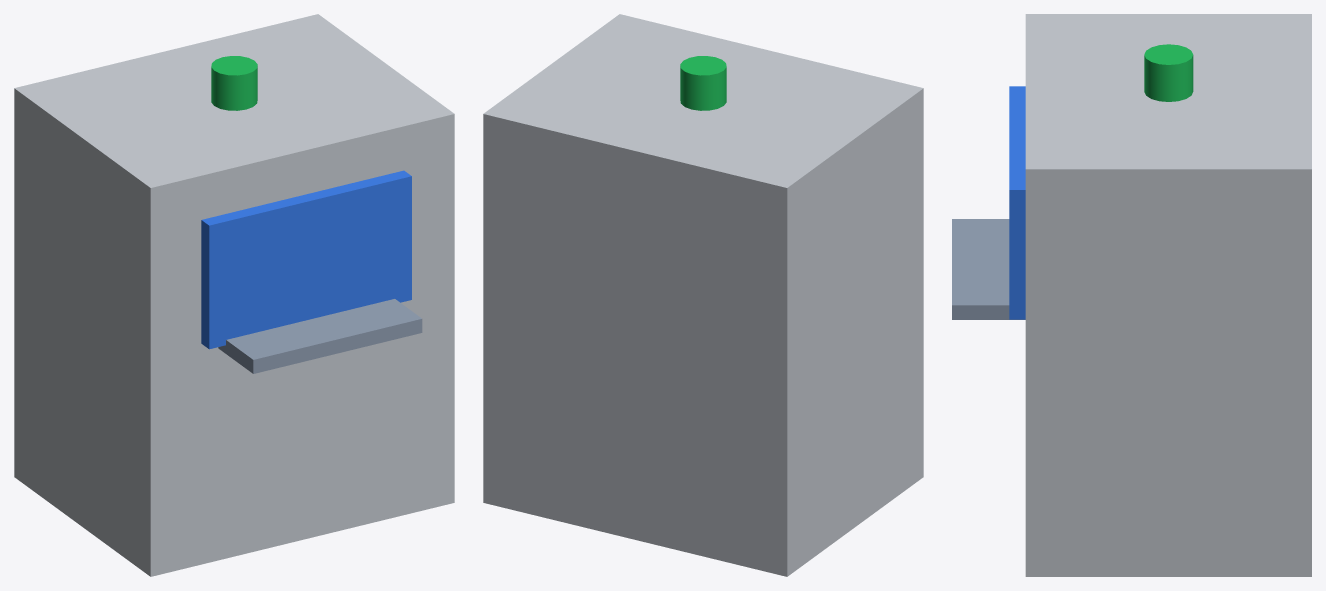
Rendered from kiosk.glb.
3 renders of one model, left to right at view 1: azimuth 30°, elevation 25°; view 2: azimuth 150°, elevation 25°; view 3: azimuth 270°, elevation 25°, orthographic. The views are drawn at different scales.
Parts seen in each view (by area): view 1: Body, Screen, Flap, Lamp; view 2: Body, Lamp; view 3: Body, Flap, Screen, Lamp.
Boxes of the visible parts, bbox=[...] form: Body: bbox=[14, 14, 454, 576]; Screen: bbox=[201, 170, 411, 349]; Flap: bbox=[218, 299, 422, 373]; Lamp: bbox=[211, 56, 257, 110]; Body: bbox=[483, 14, 923, 576]; Lamp: bbox=[680, 56, 726, 110]; Body: bbox=[1025, 14, 1311, 576]; Flap: bbox=[952, 219, 1025, 319]; Screen: bbox=[1009, 86, 1025, 319]; Lamp: bbox=[1144, 44, 1193, 101].
Bounding box in the file's own units: 0.9 × 1.2 × 0.88.
